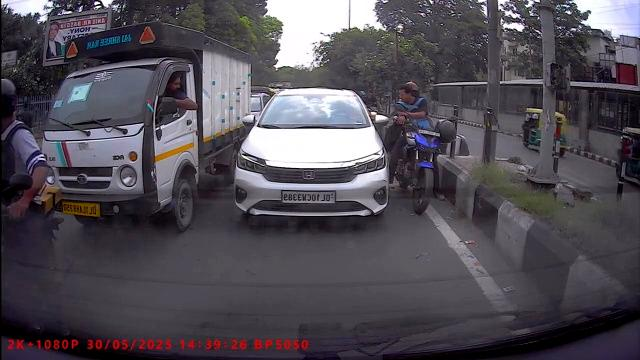motorcycle_without_helmet: (381, 79, 457, 217)
